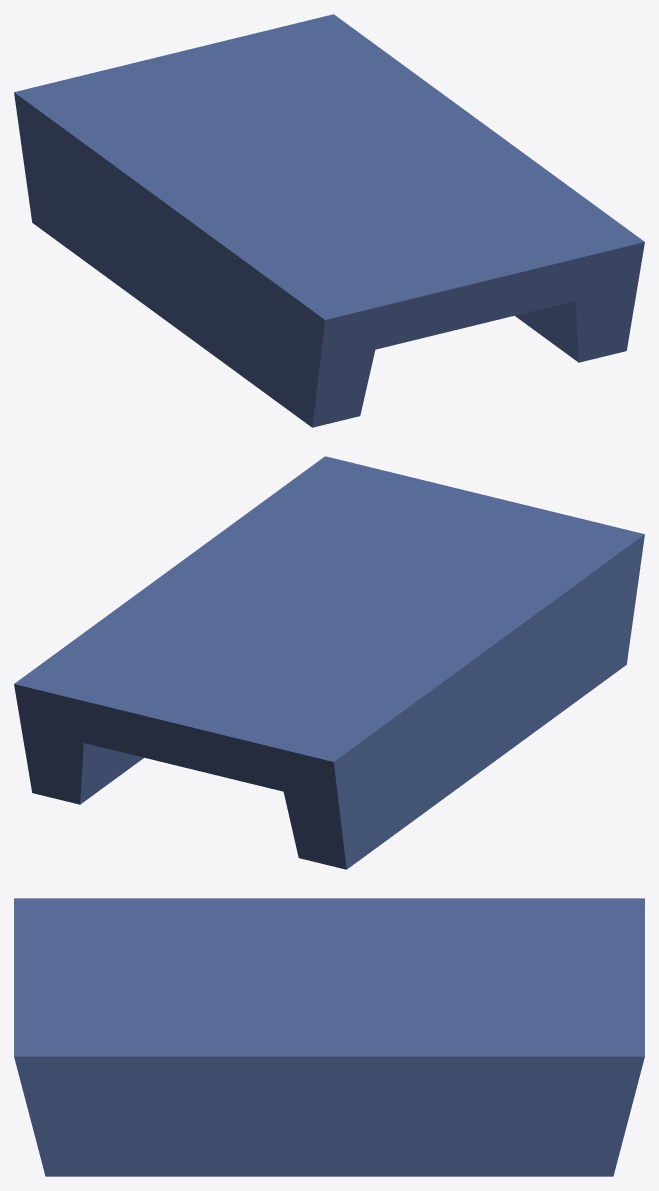
The model's file is tank_body.fbx.
3 renders of one model, top to bottom at view 1: azimuth 30°, elevation 25°; view 2: azimuth 150°, elevation 25°; view 3: azimuth 270°, elevation 25°, orthographic.
Visible parts, largest first — view 1: polySurface1; view 2: polySurface1; view 3: polySurface1.
Part boxes in pixels (x1,y1,x2,y2): polySurface1: (14, 14, 644, 427); polySurface1: (14, 456, 644, 869); polySurface1: (14, 898, 644, 1176).
Size of the model in its own units: 9.19 by 3.29 by 15.5.
